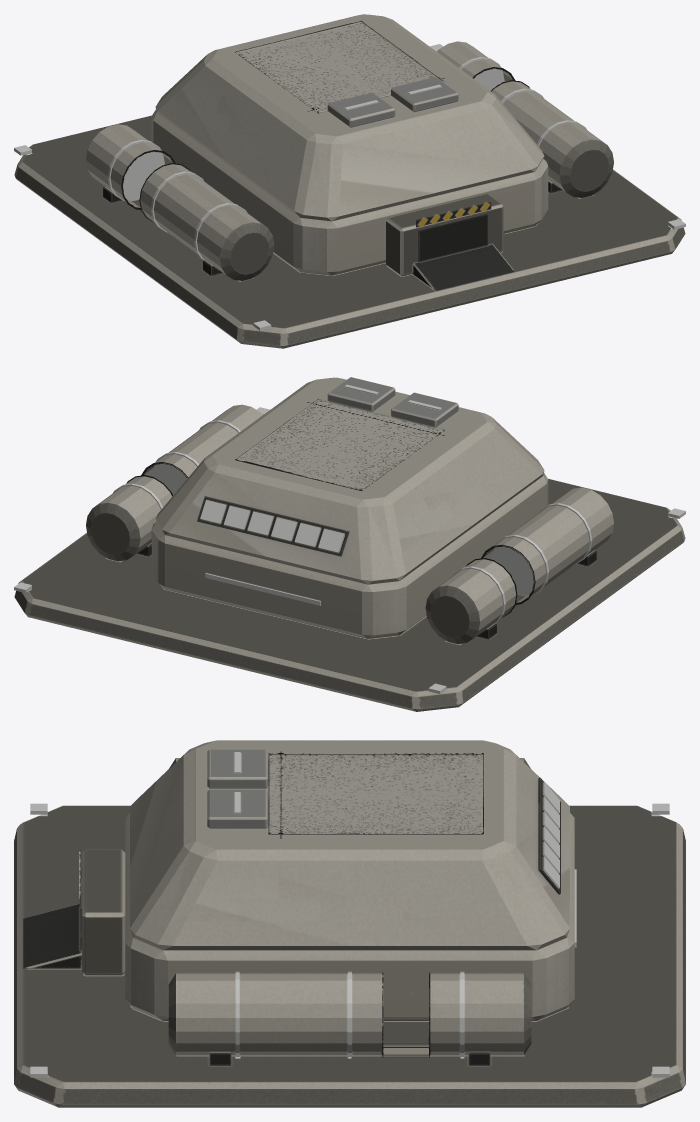
The model's file is ord_depot.fbx.
3 renders of one model, top to bottom at view 1: azimuth 30°, elevation 25°; view 2: azimuth 150°, elevation 25°; view 3: azimuth 270°, elevation 25°, orthographic. The views are drawn at different scales.
Visible parts, largest first — view 1: base_bar, base_glow_power_bar, base_glow_running_bar; view 2: base_bar, base_glow_power_bar, base_glow_running_bar; view 3: base_bar, base_glow_power_bar, base_glow_running_bar.
Part boxes in pixels (<box>): base_bar: <box>14,14,685,348</box>; base_glow_power_bar: <box>107,57,586,259</box>; base_glow_running_bar: <box>14,44,685,330</box>; base_bar: <box>14,377,685,711</box>; base_glow_power_bar: <box>113,420,592,623</box>; base_glow_running_bar: <box>14,384,685,693</box>; base_bar: <box>14,740,685,1107</box>; base_glow_power_bar: <box>235,781,559,1056</box>; base_glow_running_bar: <box>30,752,669,1077</box>.
Bounding box in the file's own units: 1555 × 673 × 1555.
Materials: 2 (2 with a texture image).
